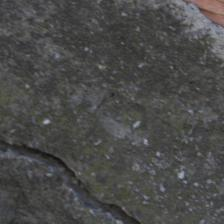Crack: (3, 70, 132, 151)
